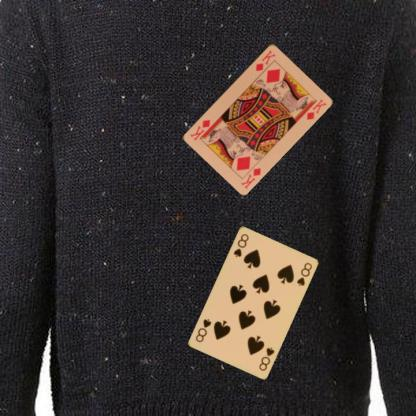8s: (256, 344, 275, 372), (230, 231, 249, 258)
Kd: (253, 47, 277, 72), (238, 165, 262, 190)
